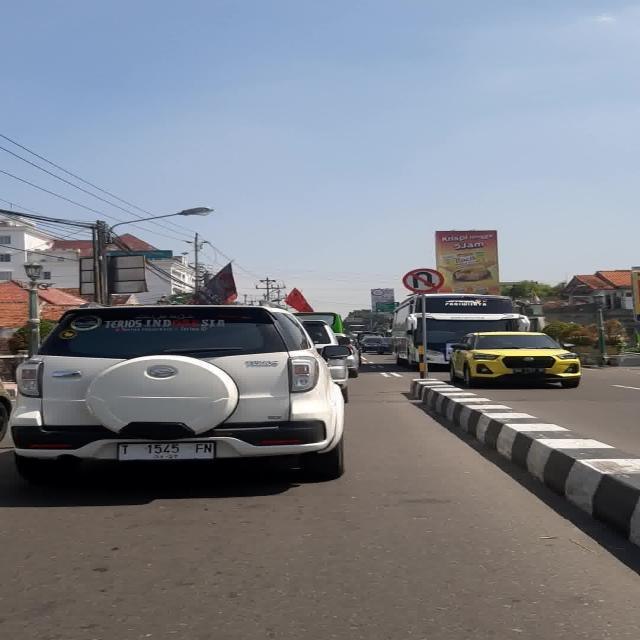Dilarang Putar Balik: (402, 268, 444, 292)
